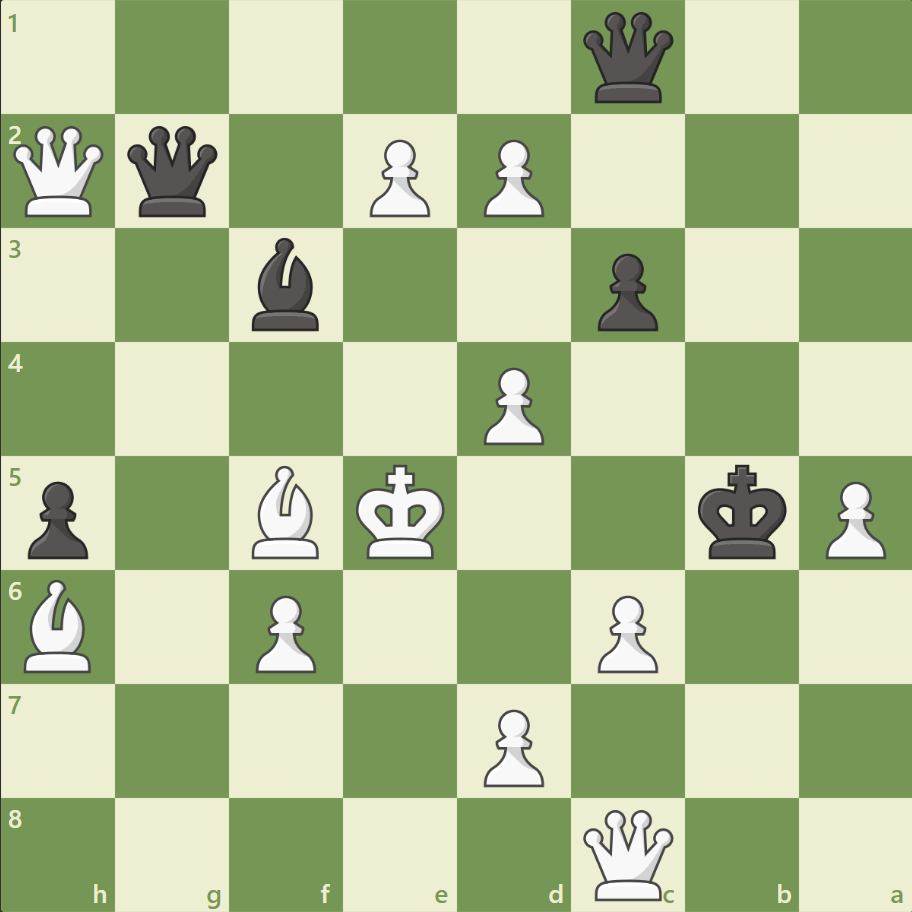B: (244, 460, 328, 563), (17, 574, 101, 676)
K: (351, 458, 451, 566)
P: (474, 700, 549, 791), (247, 586, 322, 677), (474, 359, 549, 450), (474, 132, 549, 223), (588, 586, 662, 677), (815, 473, 889, 564), (361, 132, 435, 223)
Q: (10, 122, 109, 222), (578, 804, 677, 903)
b: (244, 233, 328, 336)
k: (692, 458, 792, 566)
p: (20, 473, 95, 564), (588, 246, 662, 337)
q: (124, 122, 223, 222), (578, 9, 677, 108)
